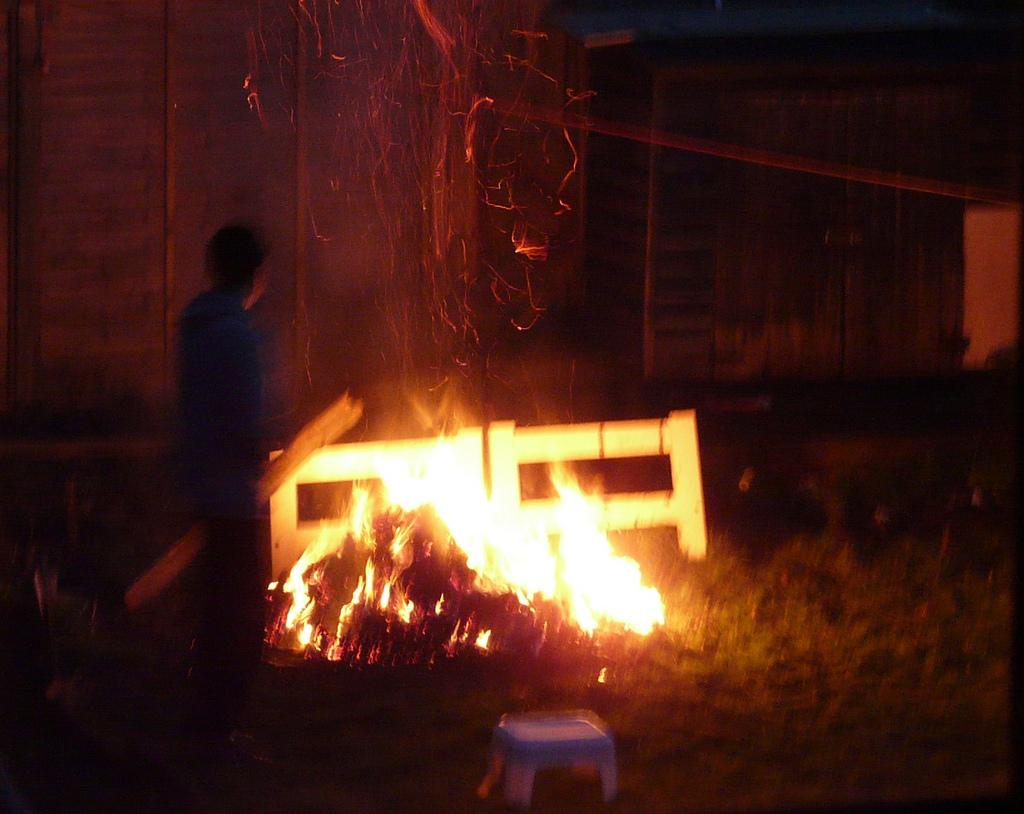fire: (456, 494, 546, 580), (566, 550, 660, 630), (392, 442, 480, 512)
